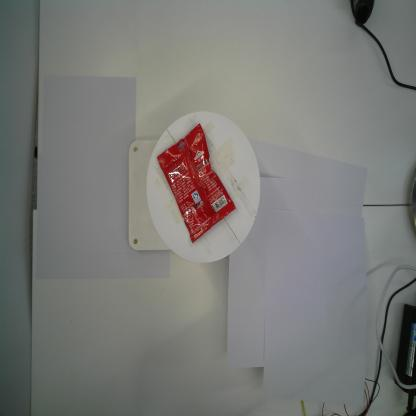Instant Drink: (156, 123, 236, 245)
